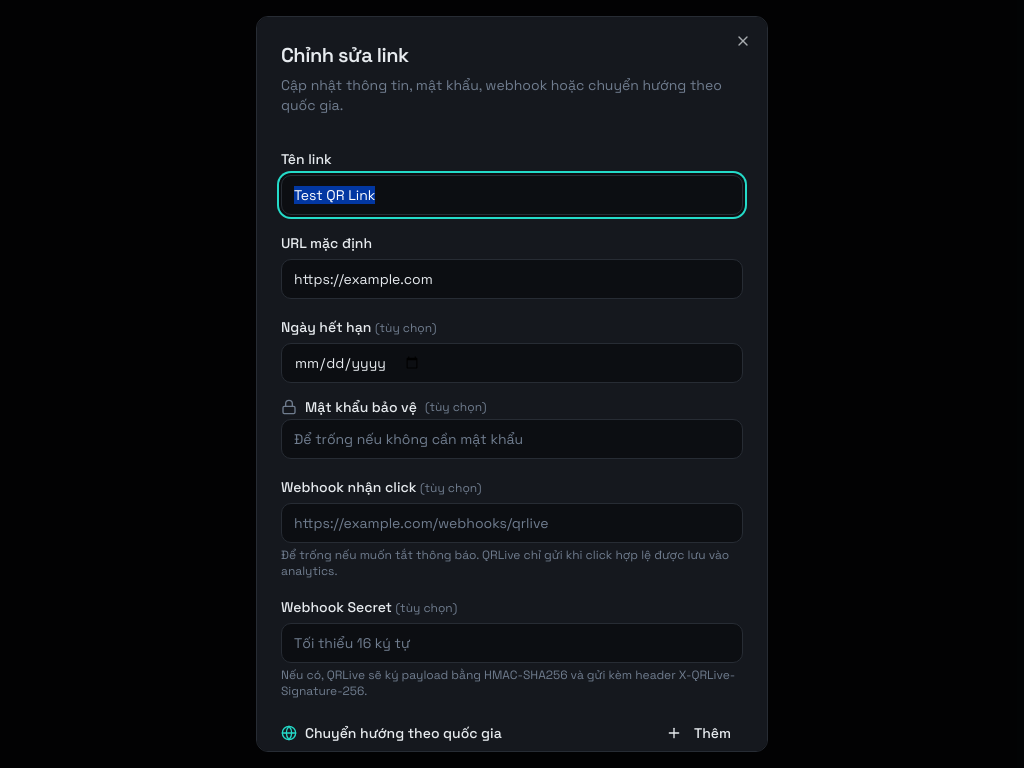
it: EditLinkDialog › shows validation errors for empty name and invalid URL
The width and height of the screenshot is (1024, 768).
Clear the field showing "Test QR Link" below "Tên link" at (512, 195), box x1=281 y1=175 x2=743 y2=215
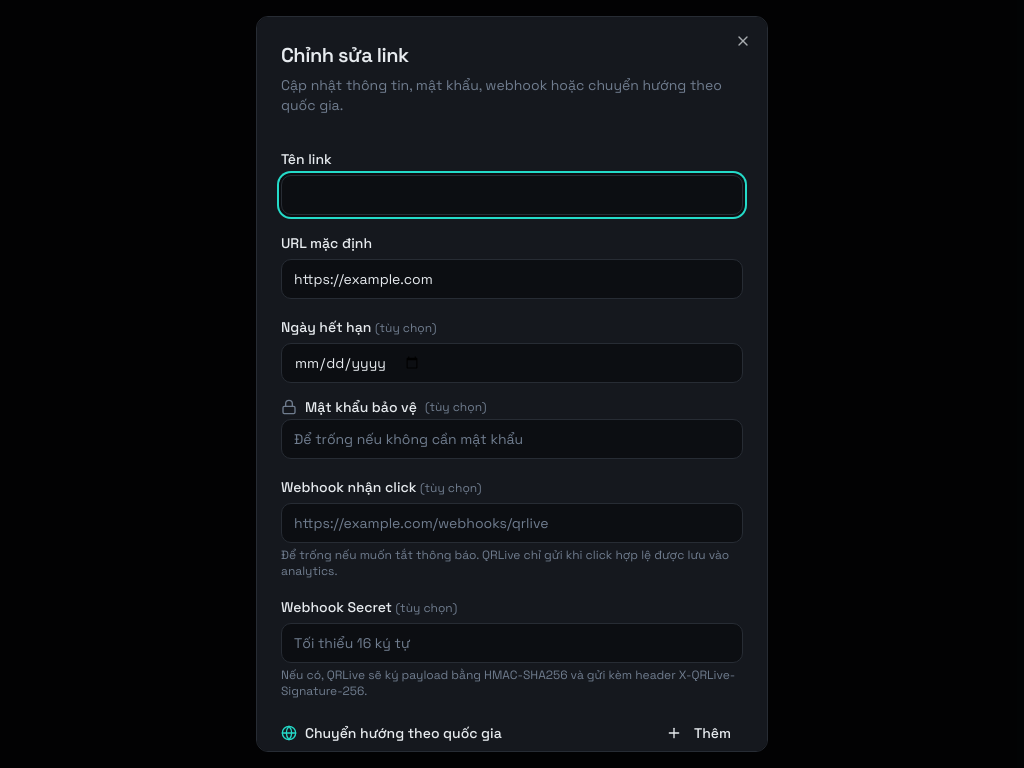
Replace the text in the field showing "https://example.com" below "URL mặc định" with "not-a-url" at (512, 279), box x1=281 y1=259 x2=743 y2=299
(page scrolled)
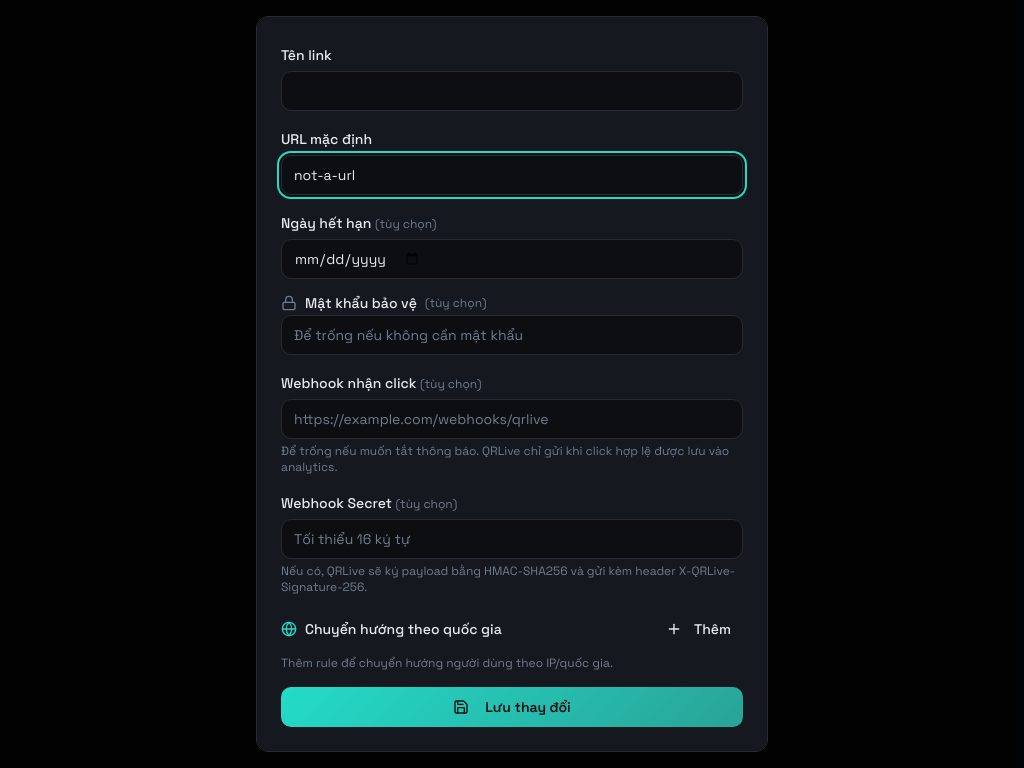
Click the button "Lưu thay đổi" at (512, 707), box x1=281 y1=687 x2=743 y2=727
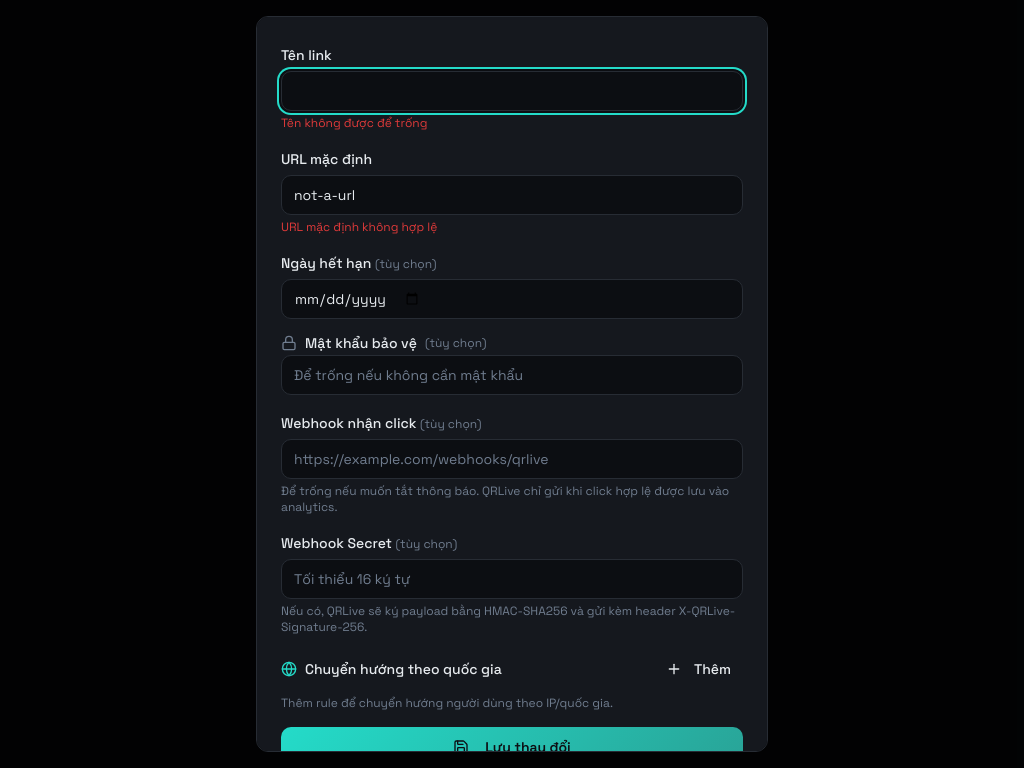
expect the text "Tên không được để trống" is shown: met, box x1=281 y1=115 x2=427 y2=131
expect the text "URL mặc định không hợp lệ" is shown: met, box x1=281 y1=219 x2=437 y2=235
